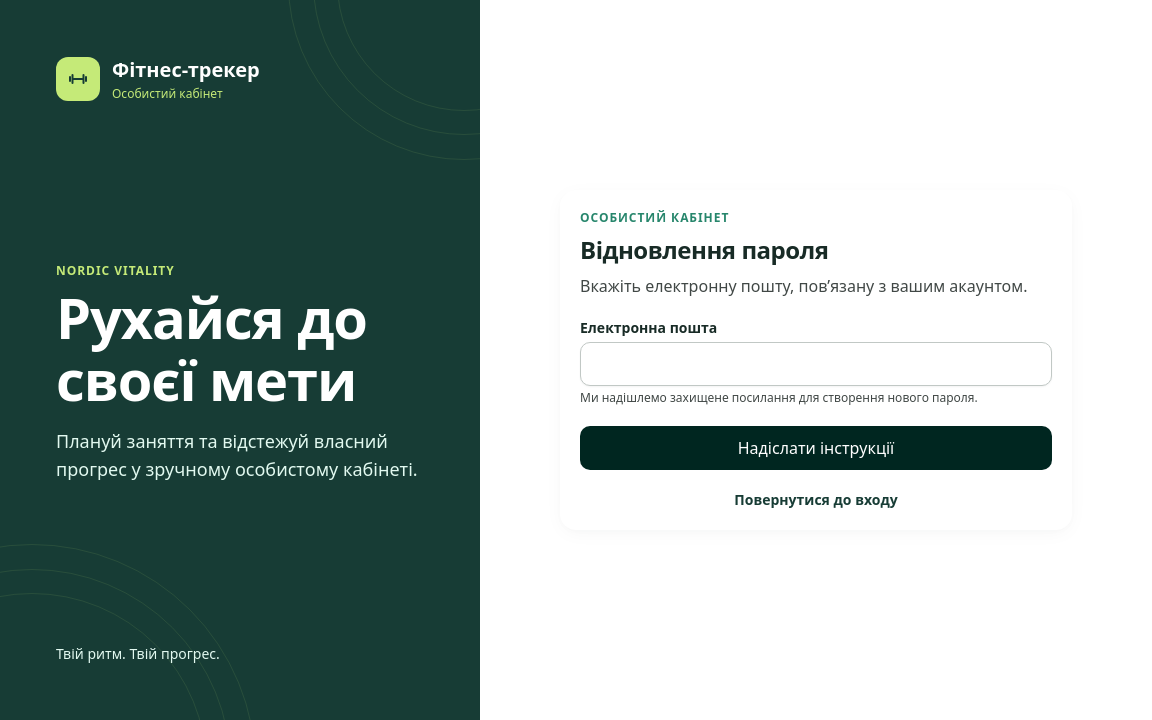
Scenario: D02 validates email, submits password reset with CSRF, shows generic confirmation, and handles errors without losing email
Expected: the heading "Відновлення пароля" is shown, [580,233,828,266]
Note: Client validation rejects invalid email without calling POST /api/v1/auth/password-reset/
Type "invalid-email" into the field labelled "Електронна пошта".
click(816, 364); type("invalid-email")  # box [580,342,1052,386]
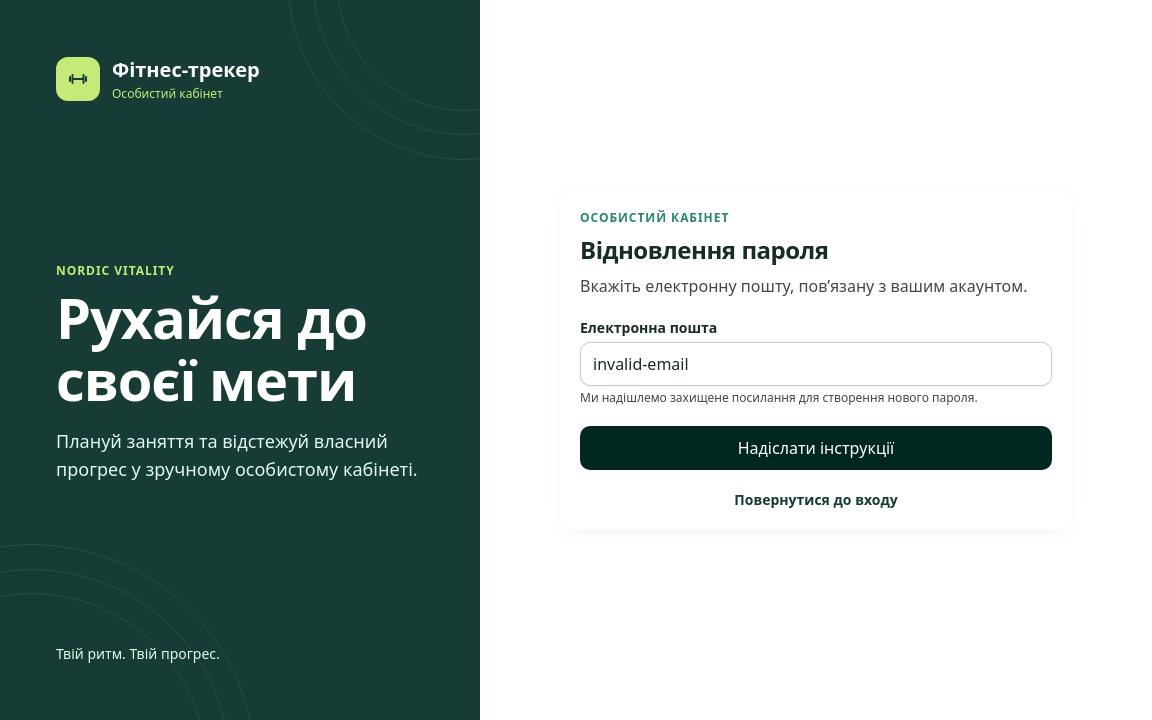
Click the button "Надіслати інструкції".
click(816, 448)  # box [580,426,1052,470]
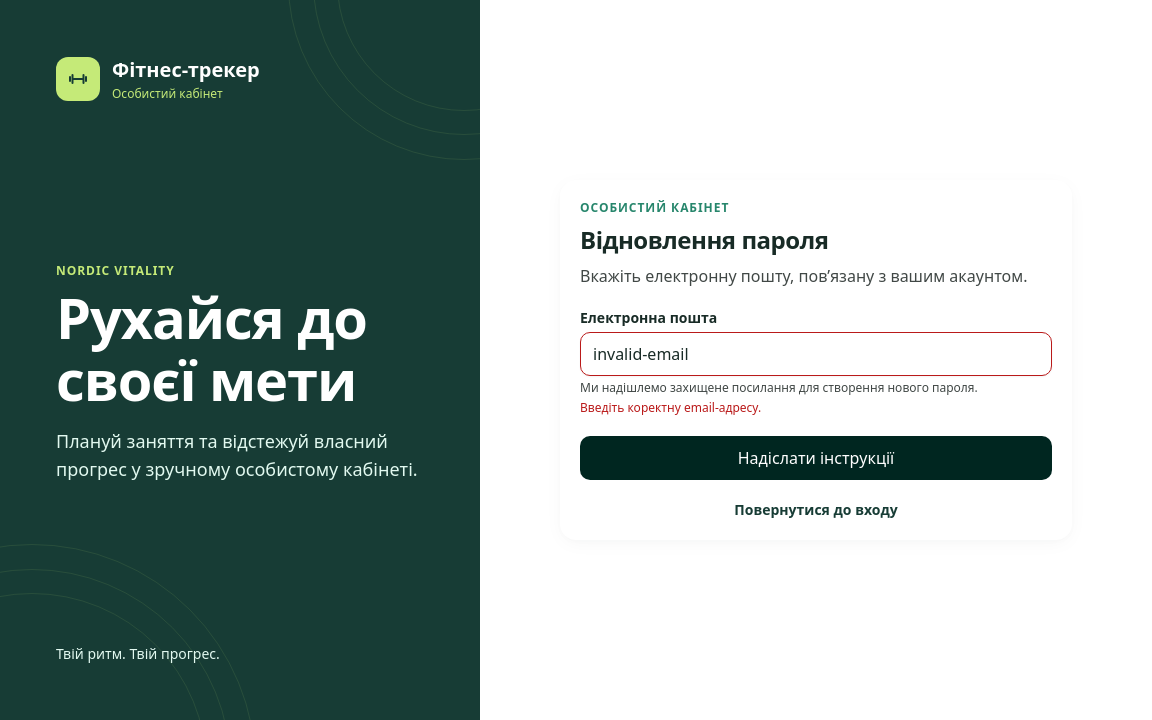
Result: the text "Введіть коректну email-адресу." is shown at [580,399,761,416]
Note: Valid email submits POST /api/v1/auth/password-reset/ with X-CSRFToken and credentials: "same-origin"
Replace the text in the field labelled "Електронна пошта" with "member@example.test" at (816, 354), box [580,332,1052,376]
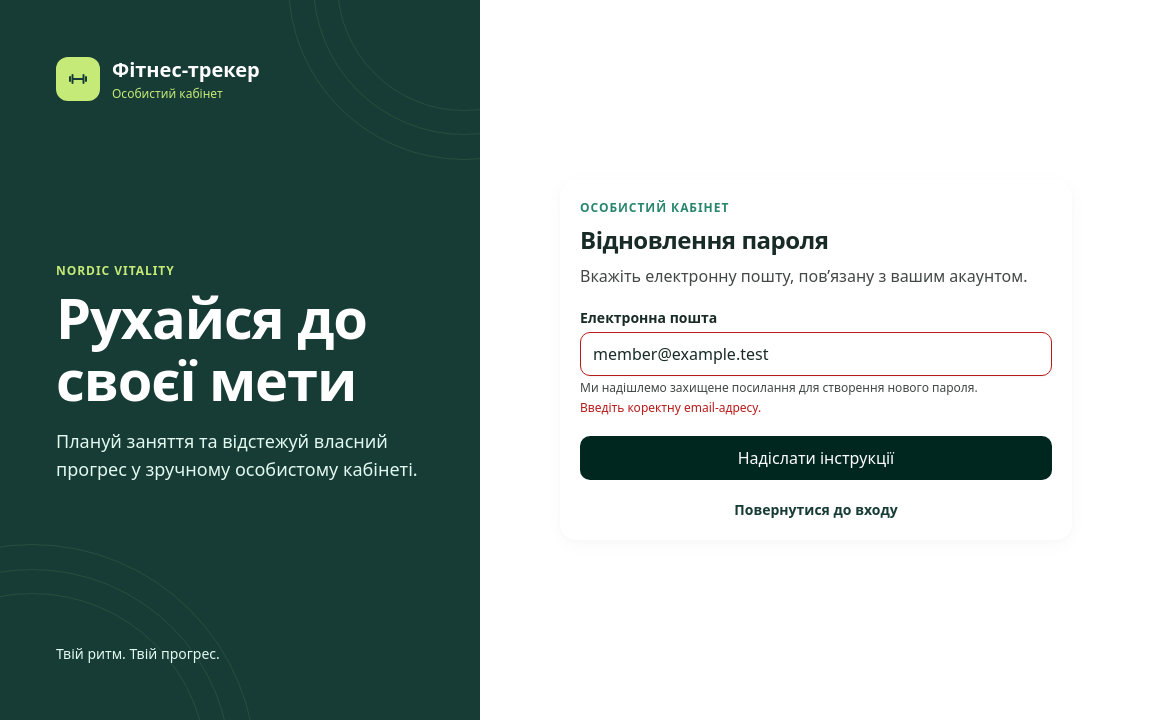
Click the button "Надіслати інструкції".
click(816, 458)  # box [580,436,1052,480]
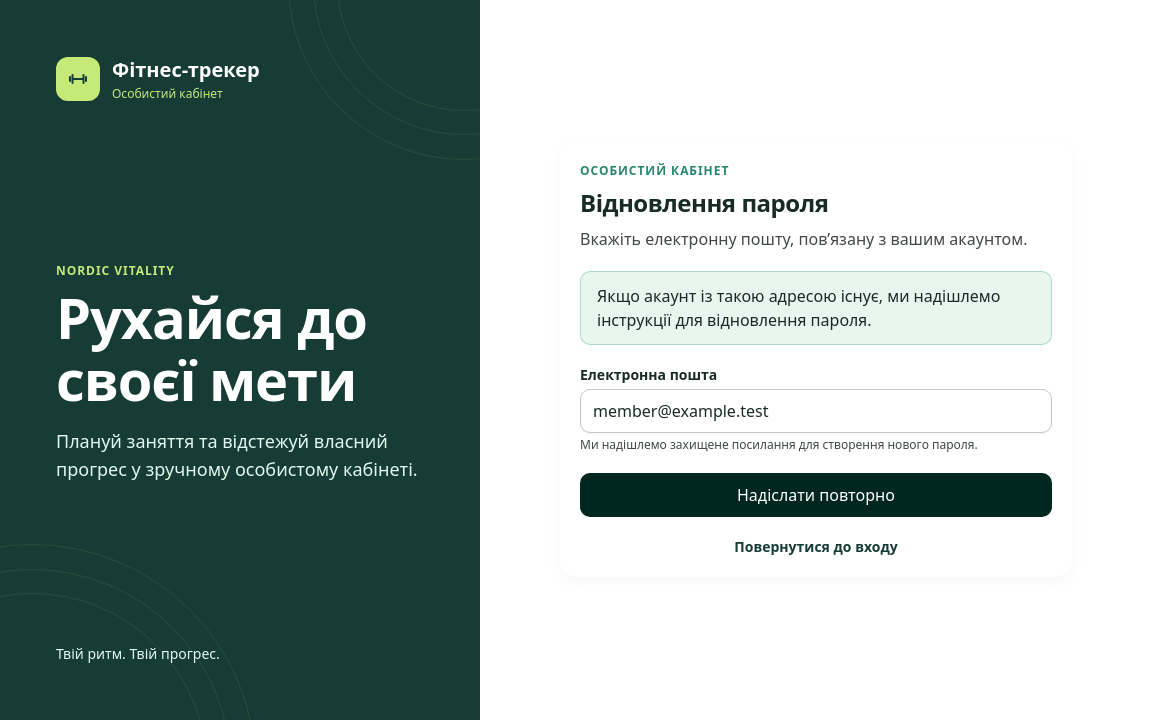
Result: the text "Якщо акаунт із такою адресою існує, ми надішлемо інструкції для відновлення пароля." is shown at [597,285,1000,331]
Result: the button "Надіслати повторно" is shown
Click the button "Надіслати повторно".
click(816, 495)  # box [580,473,1052,517]
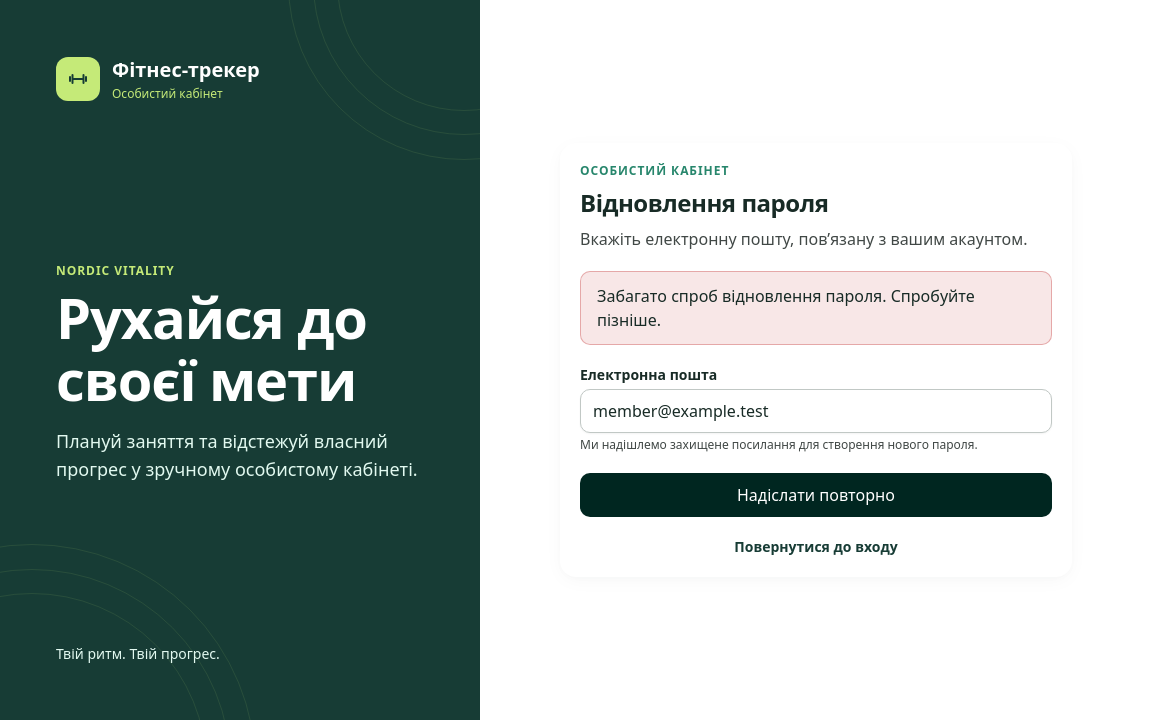
Result: the text "Забагато спроб відновлення пароля. Спробуйте пізніше." is shown at [580,271,1052,345]
Click the button "Надіслати повторно".
click(816, 495)  # box [580,473,1052,517]
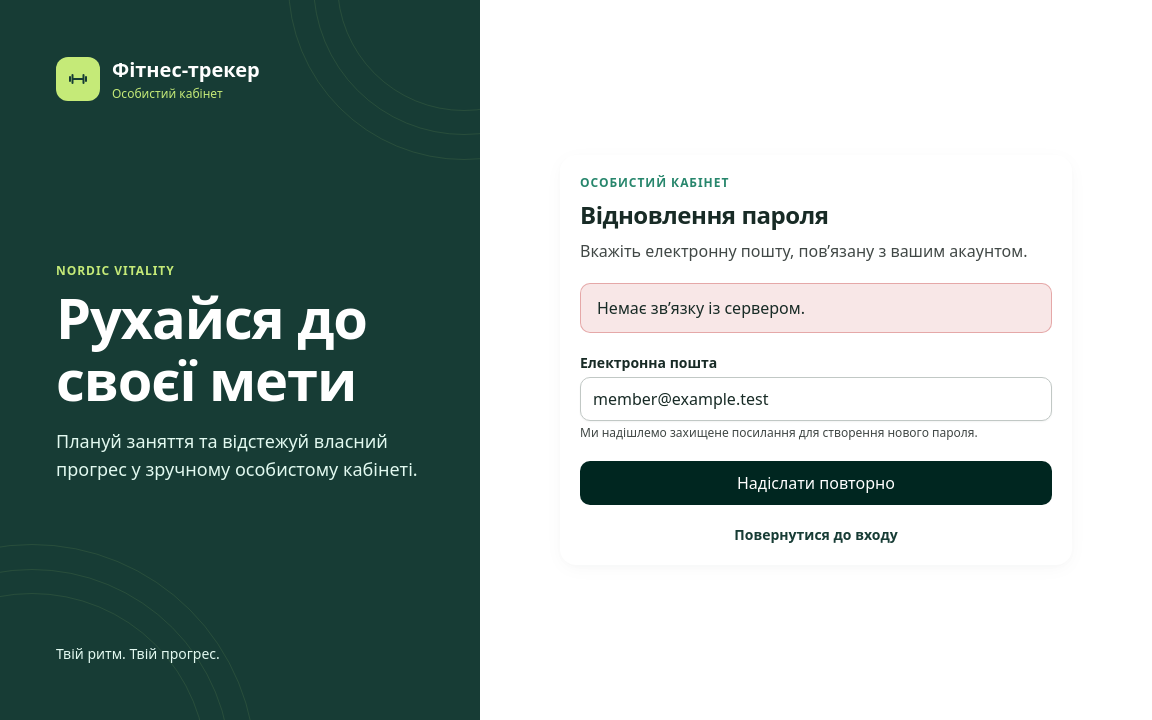
Result: the text "Немає зв’язку із сервером." is shown at [580,283,1052,333]
